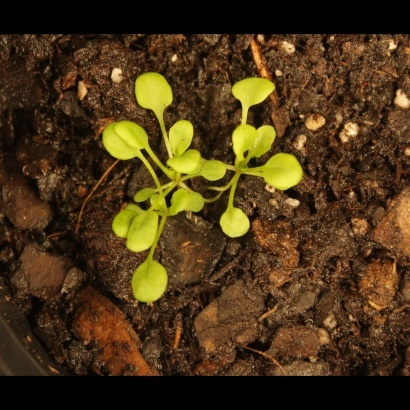leaf: (124, 65, 183, 114), (227, 71, 280, 112), (128, 258, 174, 305), (262, 149, 303, 194), (111, 116, 155, 151), (125, 212, 161, 254), (218, 200, 255, 240), (101, 124, 140, 160), (109, 202, 141, 241), (167, 117, 197, 156), (248, 121, 278, 159), (229, 121, 257, 161), (168, 148, 204, 176), (161, 188, 192, 217), (131, 176, 158, 209), (184, 188, 207, 221), (201, 159, 228, 184)
